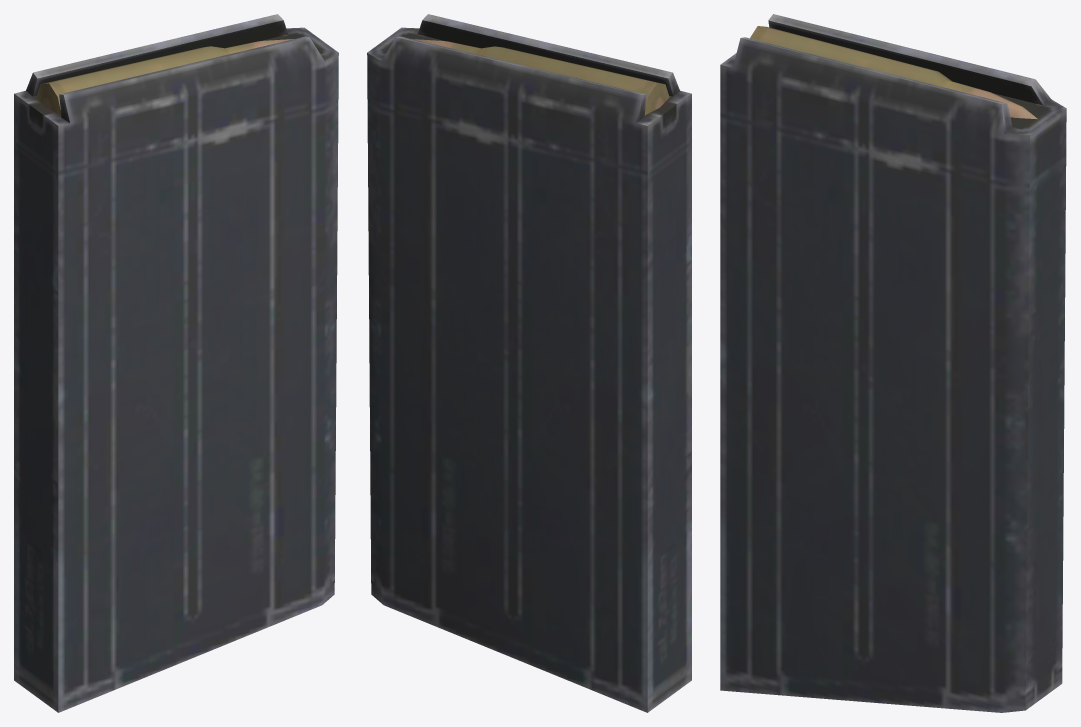
File: ST_MAG_EX_SLR.FBX
3 renders of one model, left to right at view 1: azimuth 30°, elevation 25°; view 2: azimuth 150°, elevation 25°; view 3: azimuth 330°, elevation 25°, orthographic. The views are drawn at different scales.
Visible parts, largest first — view 1: ST_MAG_EX_SLR; view 2: ST_MAG_EX_SLR; view 3: ST_MAG_EX_SLR.
Boxes of the visible parts, x1,y1,x2,y2 form: ST_MAG_EX_SLR: (14,14,338,712); ST_MAG_EX_SLR: (367,14,691,712); ST_MAG_EX_SLR: (720,14,1066,712).
Size of the model in its own units: 8.13 by 16.61 by 2.19.
Materials: 1 (1 with a texture image).
